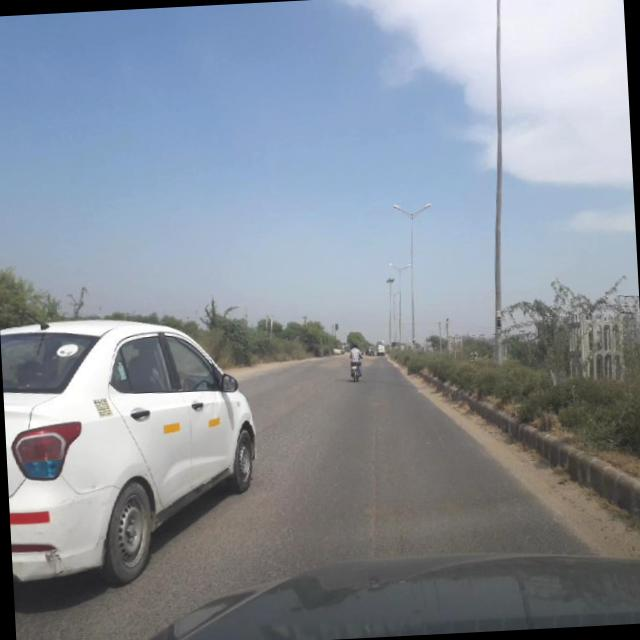pothole: (362, 408, 389, 554)
